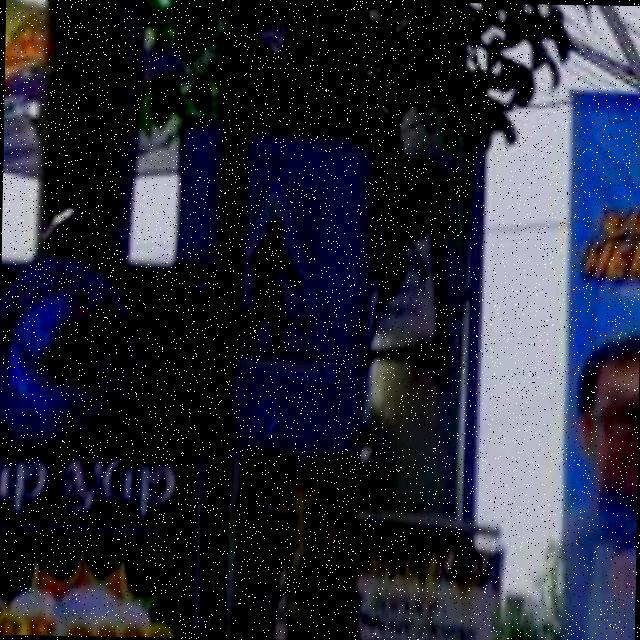Przejscie dla pieszych: (232, 128, 370, 458)
